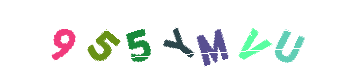5: (63, 0, 143, 80), (113, 0, 193, 80)
9: (23, 0, 103, 80)
M: (152, 0, 232, 80)
U: (225, 0, 305, 80)
V: (171, 0, 251, 80)
Y: (137, 0, 217, 80)
